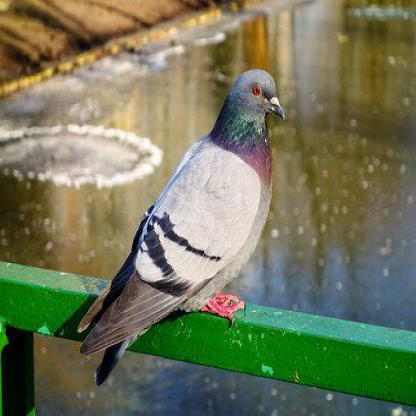Flying Rat: (83, 67, 285, 377)
